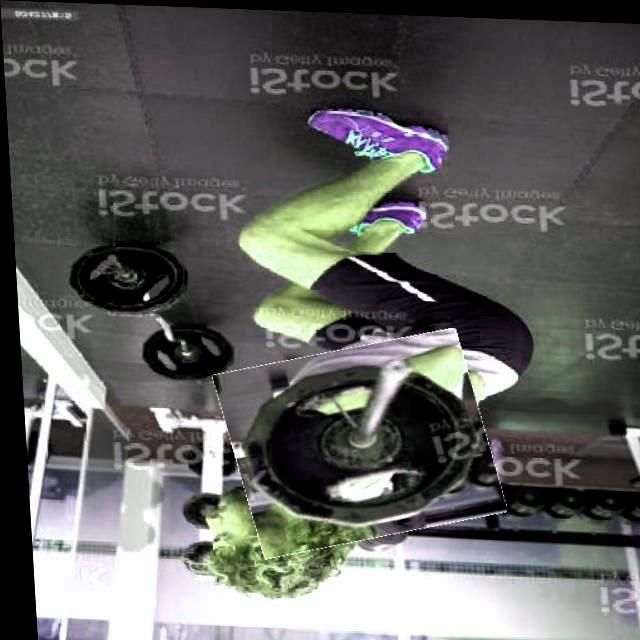barbell: (216, 332, 495, 552)
